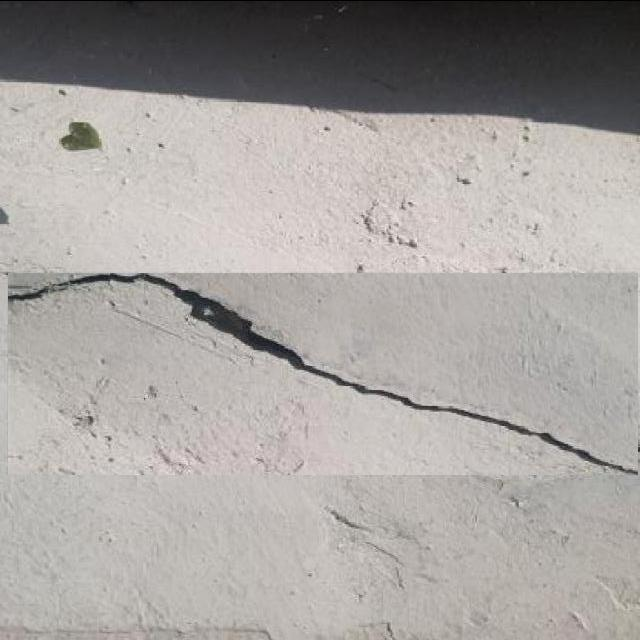crack: (7, 269, 638, 477), (5, 79, 637, 269), (7, 477, 635, 634), (2, 0, 633, 140), (22, 271, 273, 356), (13, 354, 142, 457), (3, 622, 282, 640), (12, 274, 125, 303), (58, 120, 103, 153)
